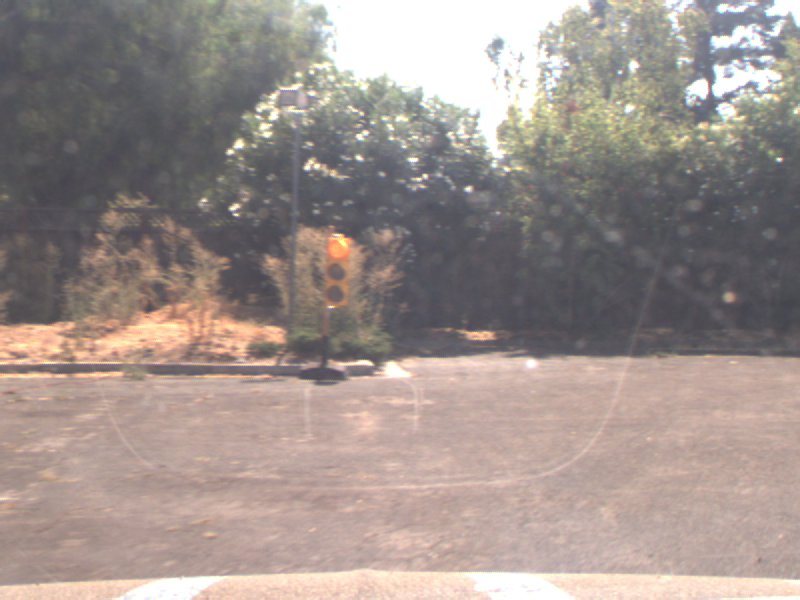red: (323, 234, 350, 310)
